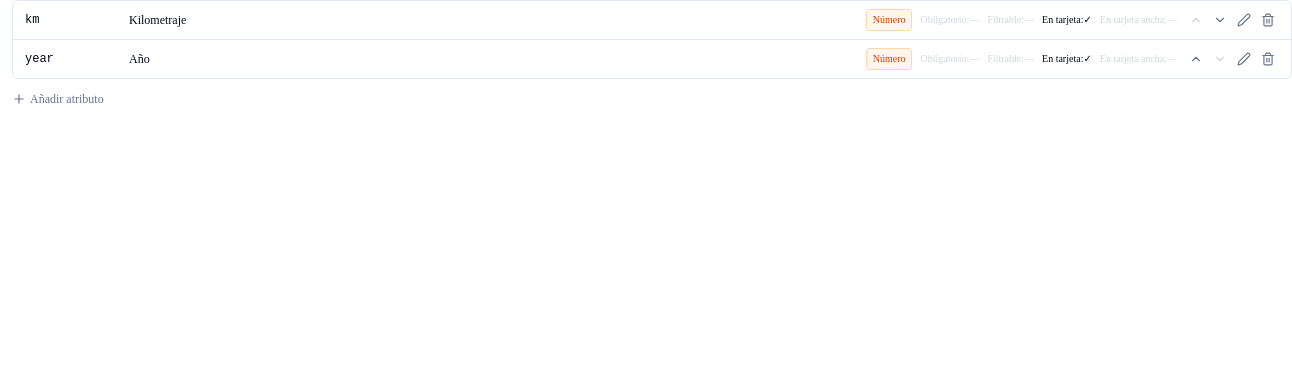
AttributeSchemaEditor — tope de card por tipo, no global › ...pero si se desmarca "Producto" (queda solo SERVICE) se habilita — SERVICE aún tiene hueco
Click the button with test id "add-attribute-btn": coordinates (58, 99) [12,91,104,107]
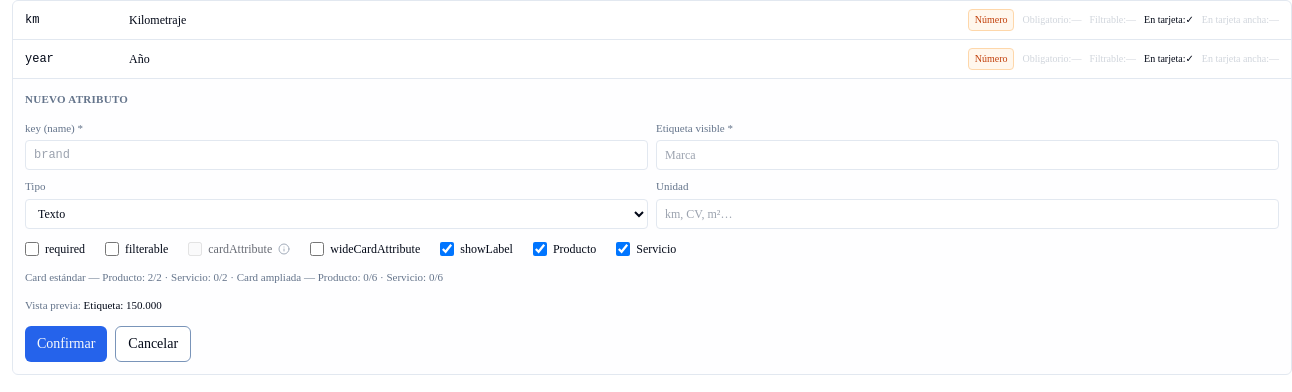
In the field with test id "attr-name-input": coordinates (336, 155) [25,140,648,170], type "specialty"
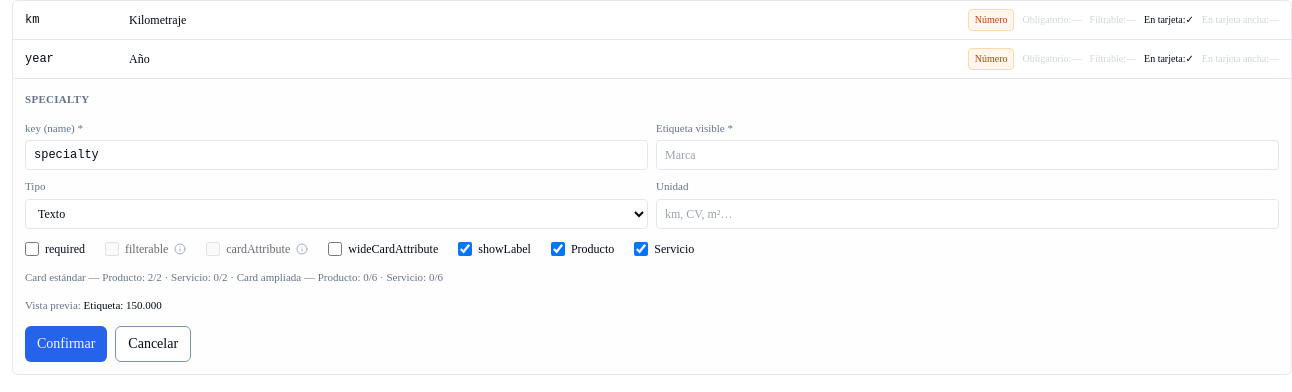
In the field with test id "attr-label-input": coordinates (968, 155) [656,140,1279,170], type "Especialidad"
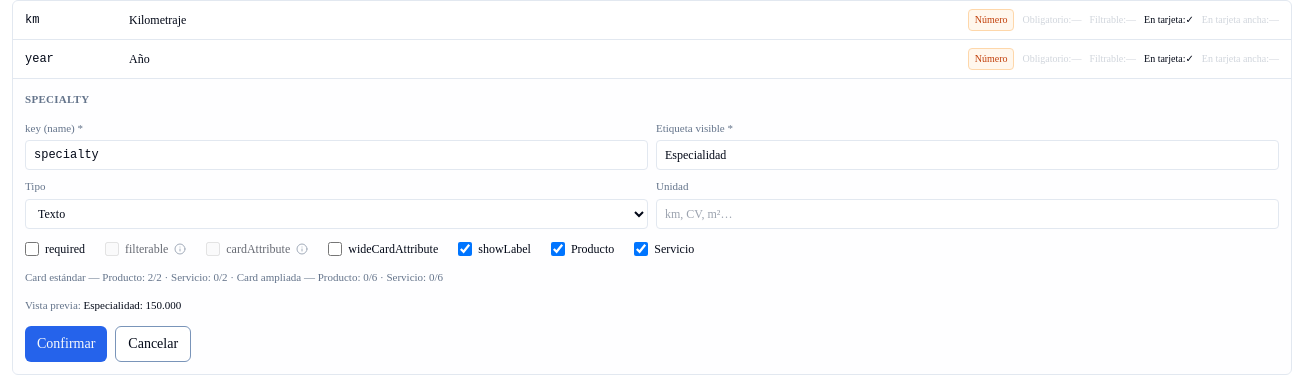
Click the checkbox with test id "applies-to-product-checkbox": coordinates (558, 248) [551,242,565,256]
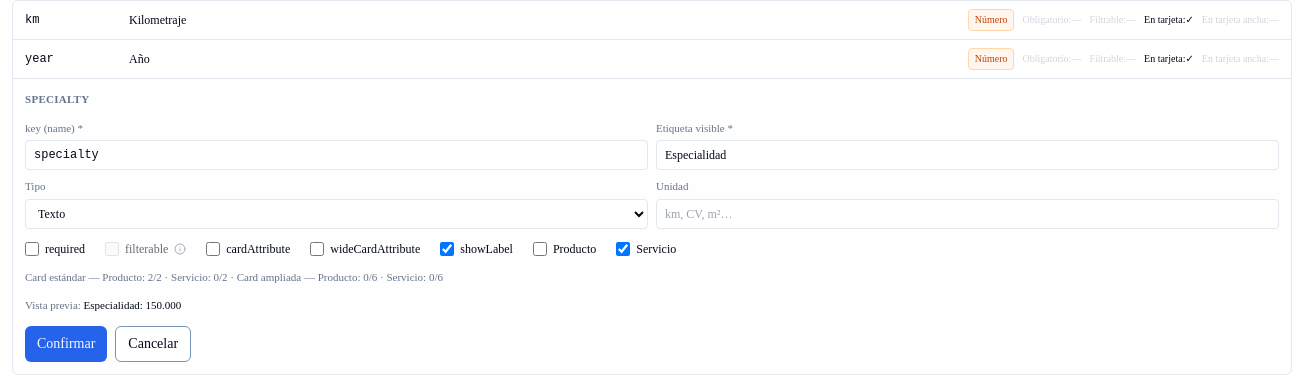
Check: the checkbox with test id "card-attribute-checkbox" is enabled, box [206,242,220,256]
